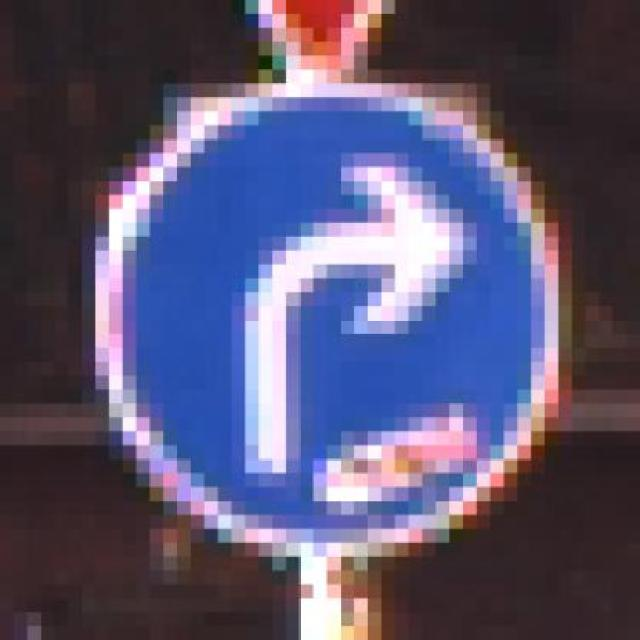Turn right ahead: (54, 58, 586, 574)
